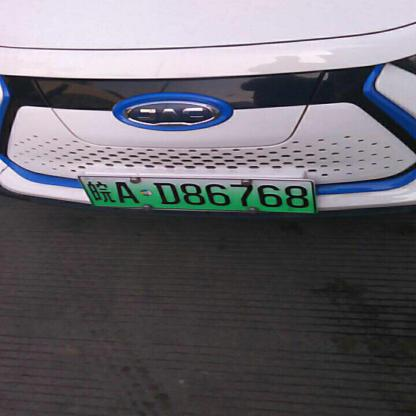lp: (79, 174, 317, 213)
